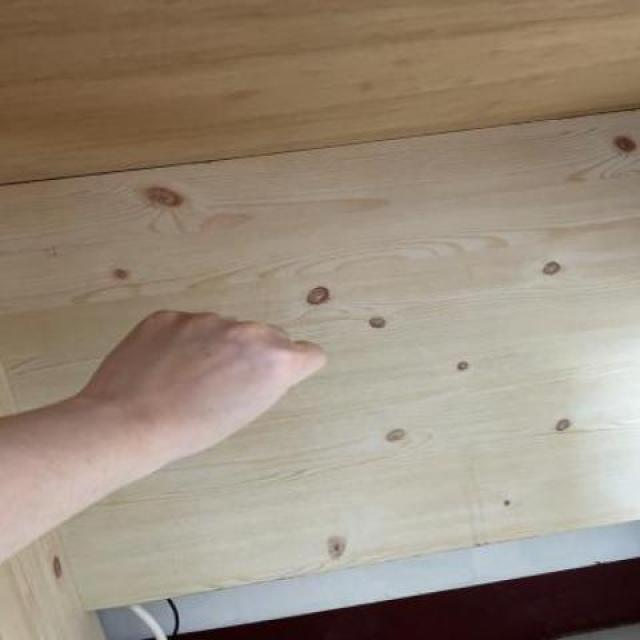fist: (81, 302, 331, 462)
